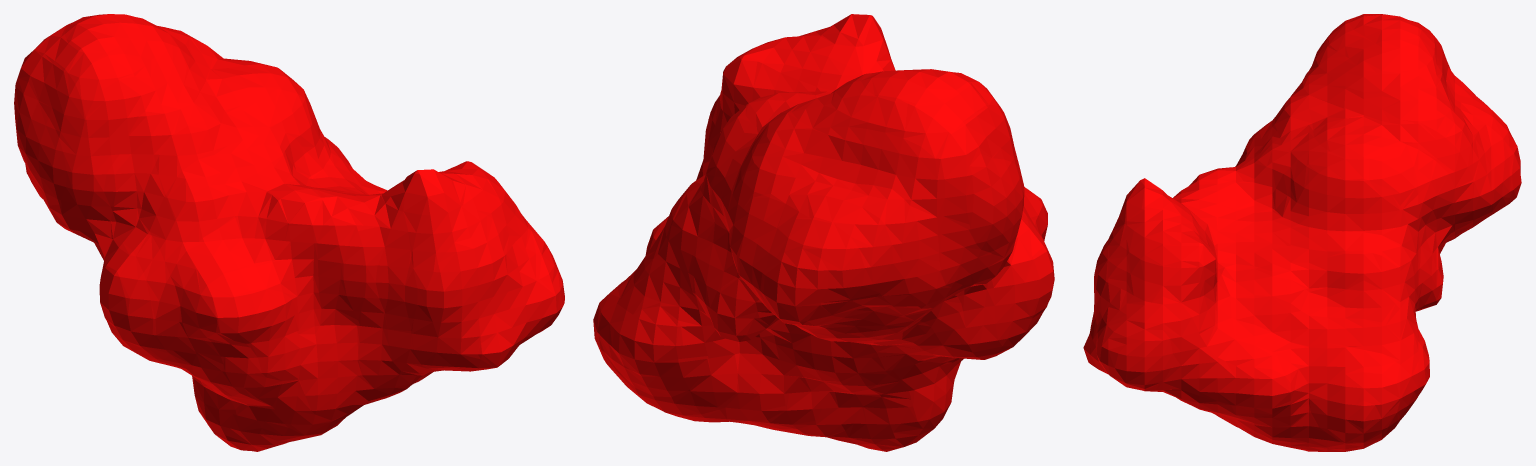
The model's file is moeB_coarse.dae.
3 views of the same model, side by side, from view 1: azimuth 30°, elevation 25°; view 2: azimuth 150°, elevation 25°; view 3: azimuth 270°, elevation 25° (orthographic). The views are drawn at different scales.
Parts seen in each view (by area): view 1: moeB; view 2: moeB; view 3: moeB.
Part boxes in pixels (x1,y1,x2,y2): moeB: (14,14,564,451); moeB: (593,14,1054,451); moeB: (1083,14,1521,451).
Bounding box in the file's own units: 58.33 × 56.27 × 63.16.
